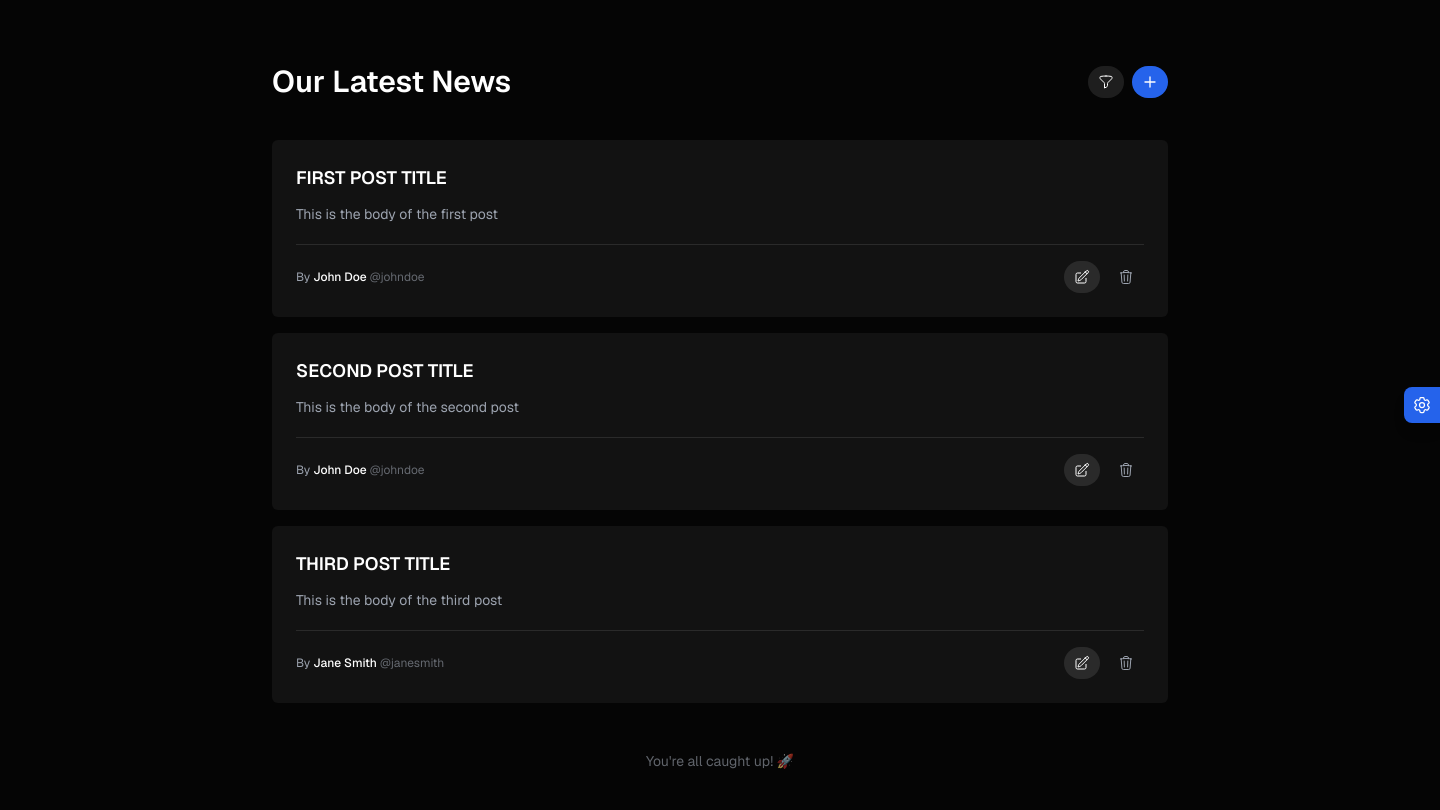
Test: Posts Page › Delete Functionality › should show confirmation modal when delete button is clicked
The image size is (1440, 810).
Expected: the heading "First Post Title" is shown, [296, 166, 447, 189]
Click the 4th button named "delete". click: (1126, 277)
box: [1108, 261, 1144, 293]
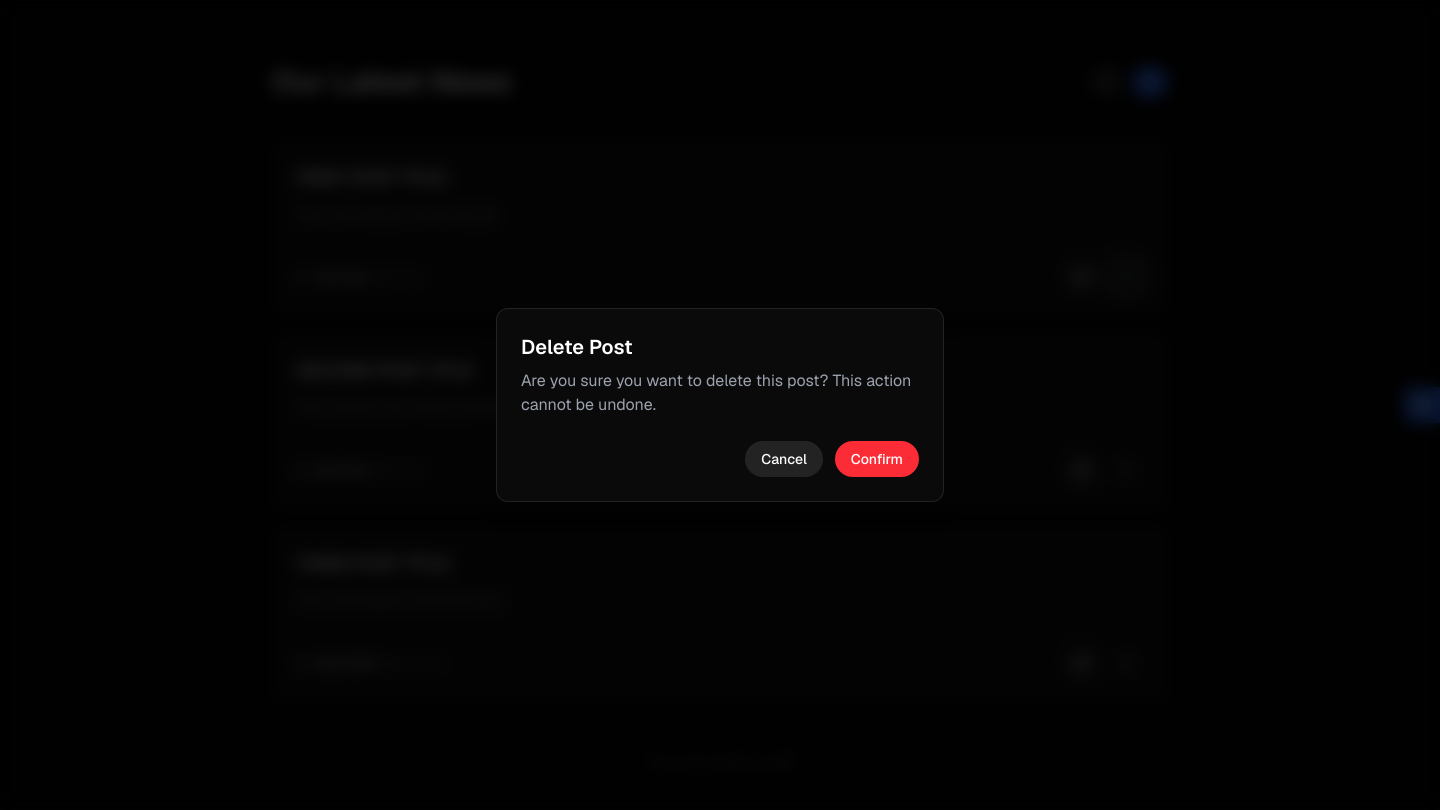
Expected: the dialog is shown, [496, 308, 944, 502]
Expected: the text "Are you sure" is shown, [521, 370, 911, 415]
